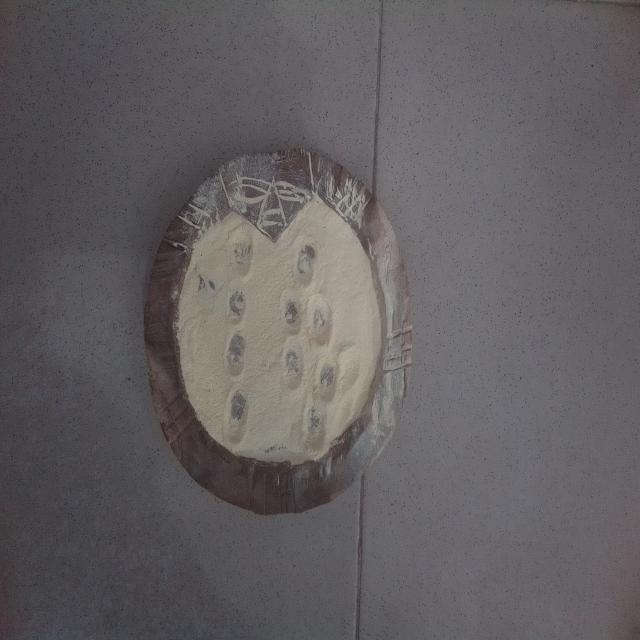double: (278, 342, 342, 404), (279, 286, 335, 350)
single: (302, 393, 329, 463), (224, 384, 250, 454), (291, 232, 319, 292), (228, 222, 256, 280), (222, 323, 248, 384), (225, 275, 246, 331)
